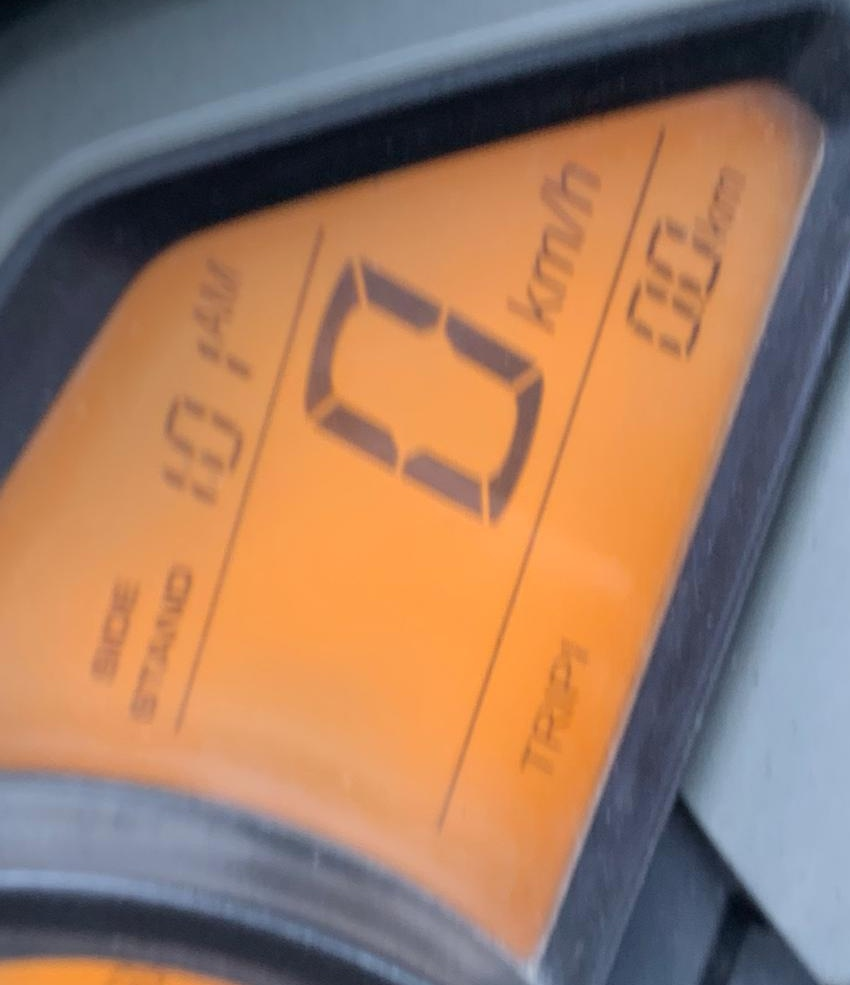-: (692, 299, 709, 313)
0: (298, 256, 547, 526), (165, 395, 246, 471), (645, 217, 721, 297), (623, 282, 697, 356)
1: (186, 339, 258, 382), (160, 467, 225, 510), (557, 638, 589, 665)
X: (532, 225, 578, 295), (544, 157, 600, 213), (504, 283, 562, 335), (537, 187, 582, 239), (202, 259, 241, 307), (527, 703, 564, 750), (514, 737, 550, 775), (546, 653, 576, 696), (190, 306, 231, 337), (709, 166, 740, 205), (107, 578, 143, 611), (163, 563, 192, 601), (699, 206, 733, 238), (155, 603, 182, 639), (104, 611, 132, 645), (128, 689, 153, 723), (146, 641, 175, 666), (545, 686, 572, 711), (89, 658, 119, 680), (139, 666, 165, 690), (96, 645, 121, 660)
